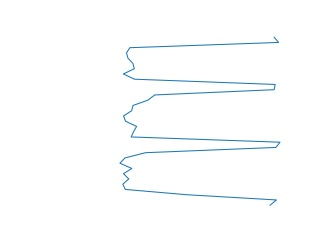majorRiverChannelBar: (117, 36, 283, 206)
